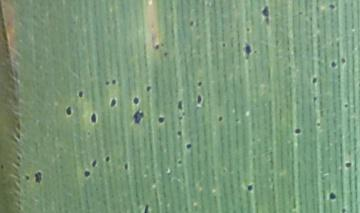tarspot: (260, 4, 275, 25), (130, 108, 147, 126), (243, 41, 256, 61), (32, 168, 43, 188), (63, 102, 75, 119), (87, 111, 100, 126), (326, 187, 339, 202), (325, 1, 340, 13), (194, 93, 205, 109), (173, 127, 186, 140), (155, 113, 167, 126), (182, 140, 195, 152), (129, 95, 143, 106), (291, 126, 306, 136), (339, 52, 349, 67), (342, 159, 354, 171), (172, 155, 183, 168), (151, 42, 162, 55), (310, 73, 320, 87), (144, 81, 153, 96), (245, 180, 254, 195), (140, 201, 151, 213), (214, 112, 225, 124), (109, 95, 118, 109), (176, 98, 185, 112), (121, 161, 132, 172), (75, 89, 86, 100), (194, 78, 205, 89), (311, 93, 321, 105), (340, 101, 352, 110), (110, 75, 118, 88), (23, 172, 32, 183), (90, 158, 99, 169), (186, 19, 197, 28), (330, 58, 339, 69), (218, 40, 227, 51), (243, 26, 254, 35), (102, 155, 114, 163), (82, 169, 91, 179), (102, 79, 111, 89), (314, 120, 322, 130), (1, 161, 8, 172), (339, 205, 348, 213)
